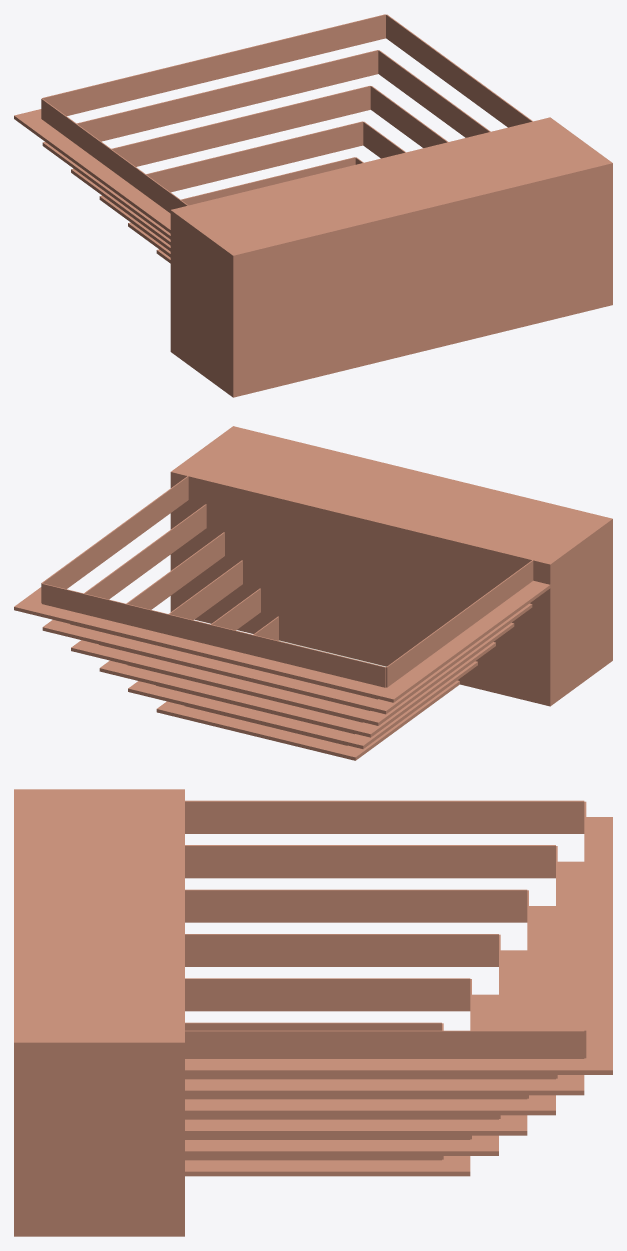
Rendered from kit_cistern.glb.
3 views of the same model, one above another, from view 1: azimuth 30°, elevation 25°; view 2: azimuth 150°, elevation 25°; view 3: azimuth 270°, elevation 25° (orthographic). The views are drawn at different scales.
Visible parts, largest first — view 1: kit_cistern; view 2: kit_cistern; view 3: kit_cistern.
Boxes of the visible parts, box(x1,y1,x2,y2) form: kit_cistern: box(14, 14, 612, 397); kit_cistern: box(14, 426, 612, 760); kit_cistern: box(14, 789, 612, 1236).
Size of the model in its own units: 7 by 2.65 by 7.
